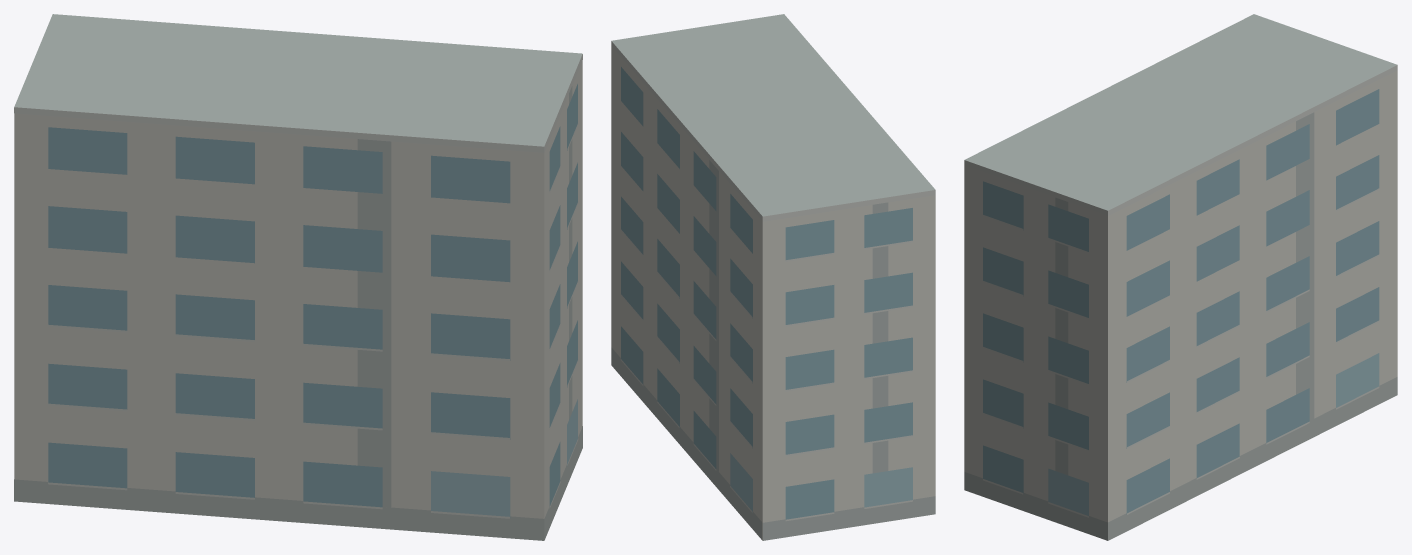
File: survey-upis-32672344.glb
The picture shows the model from 3 angles, left to right: view 1: azimuth 30°, elevation 25°; view 2: azimuth 150°, elevation 25°; view 3: azimuth 270°, elevation 25°; orthographic projection. The views are drawn at different scales.
Visible parts, largest first — view 1: survey-upis-32672344.tmp; view 2: survey-upis-32672344.tmp; view 3: survey-upis-32672344.tmp.
Part boxes in pixels (x1=…): survey-upis-32672344.tmp: x1=14, y1=14, x2=582, y2=540; survey-upis-32672344.tmp: x1=611, y1=14, x2=935, y2=540; survey-upis-32672344.tmp: x1=964, y1=14, x2=1397, y2=540.
Bounding box in the file's own units: 19.56 × 15.3 × 18.21.
